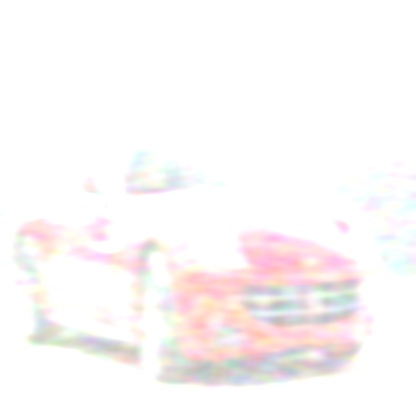Vehicle: (11, 120, 379, 384)
